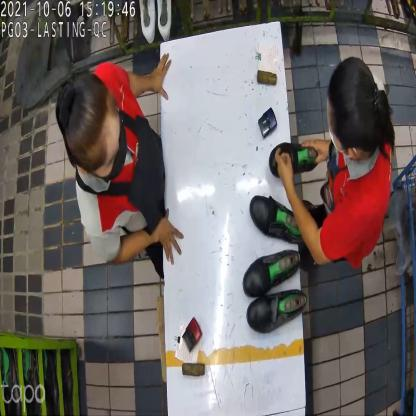shoes: (248, 141, 320, 242), (242, 247, 308, 334)
stamp: (180, 318, 203, 353), (258, 105, 277, 138)
